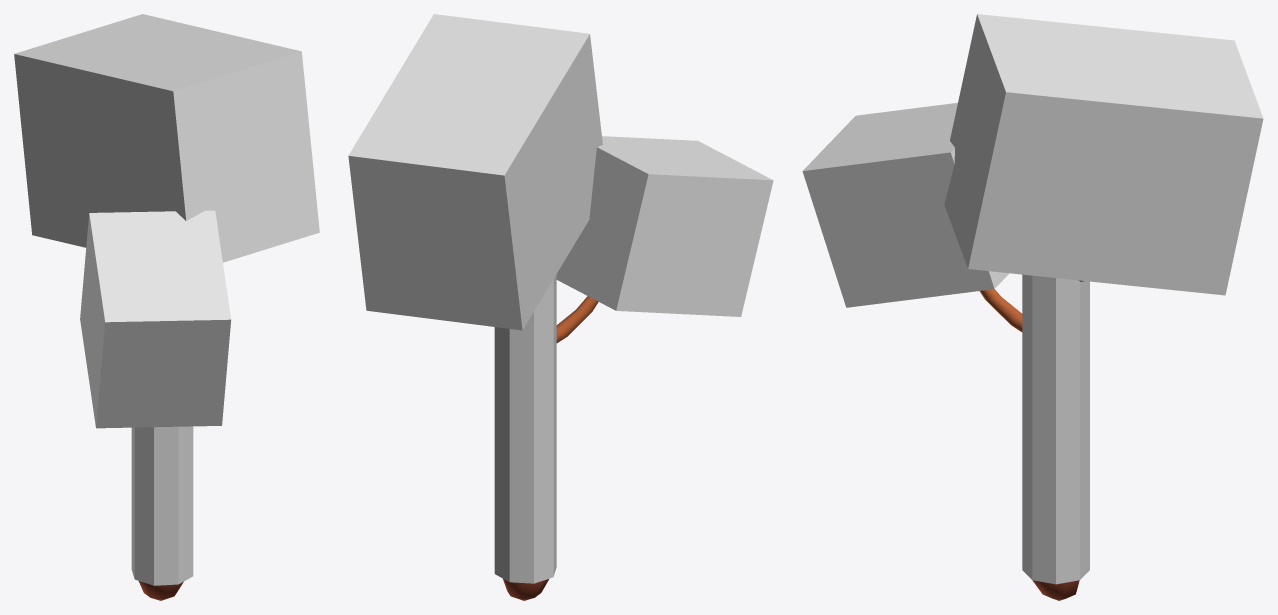
The model's file is tree_3_a.glb.
3 views of the same model, side by side, from view 1: azimuth 30°, elevation 25°; view 2: azimuth 150°, elevation 25°; view 3: azimuth 270°, elevation 25° (orthographic). The views are drawn at different scales.
Parts seen in each view (by area): view 1: COL_BOX_01.006, COL_BOX_01.009, COL_CYL_00.006, Tree_2_C_Color1; view 2: COL_BOX_01.006, COL_BOX_01.009, COL_CYL_00.006, Tree_2_C_Color1; view 3: COL_BOX_01.006, COL_BOX_01.009, COL_CYL_00.006, Tree_2_C_Color1.
Boxes of the visible parts, x1,y1,x2,y2 form: COL_BOX_01.006: [14, 14, 319, 262]; COL_BOX_01.009: [80, 210, 231, 428]; COL_CYL_00.006: [131, 426, 193, 585]; Tree_2_C_Color1: [138, 581, 183, 600]; COL_BOX_01.006: [348, 14, 602, 330]; COL_BOX_01.009: [556, 136, 773, 316]; COL_CYL_00.006: [494, 274, 556, 583]; Tree_2_C_Color1: [503, 296, 598, 600]; COL_BOX_01.006: [944, 14, 1263, 295]; COL_BOX_01.009: [802, 102, 1009, 307]; COL_CYL_00.006: [1022, 274, 1089, 584]; Tree_2_C_Color1: [979, 280, 1083, 600].
Bounding box in the file's own units: 2.29 × 4.44 × 3.24.
1 material, 1 textured.
